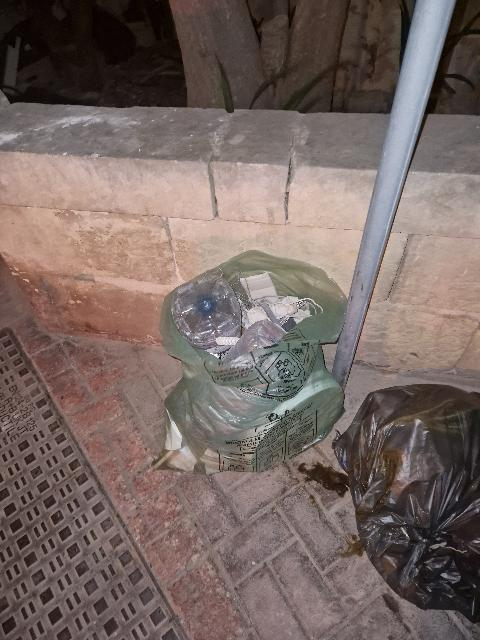Other: (153, 251, 346, 474)
Recyclable -Grey-: (332, 384, 480, 622)
